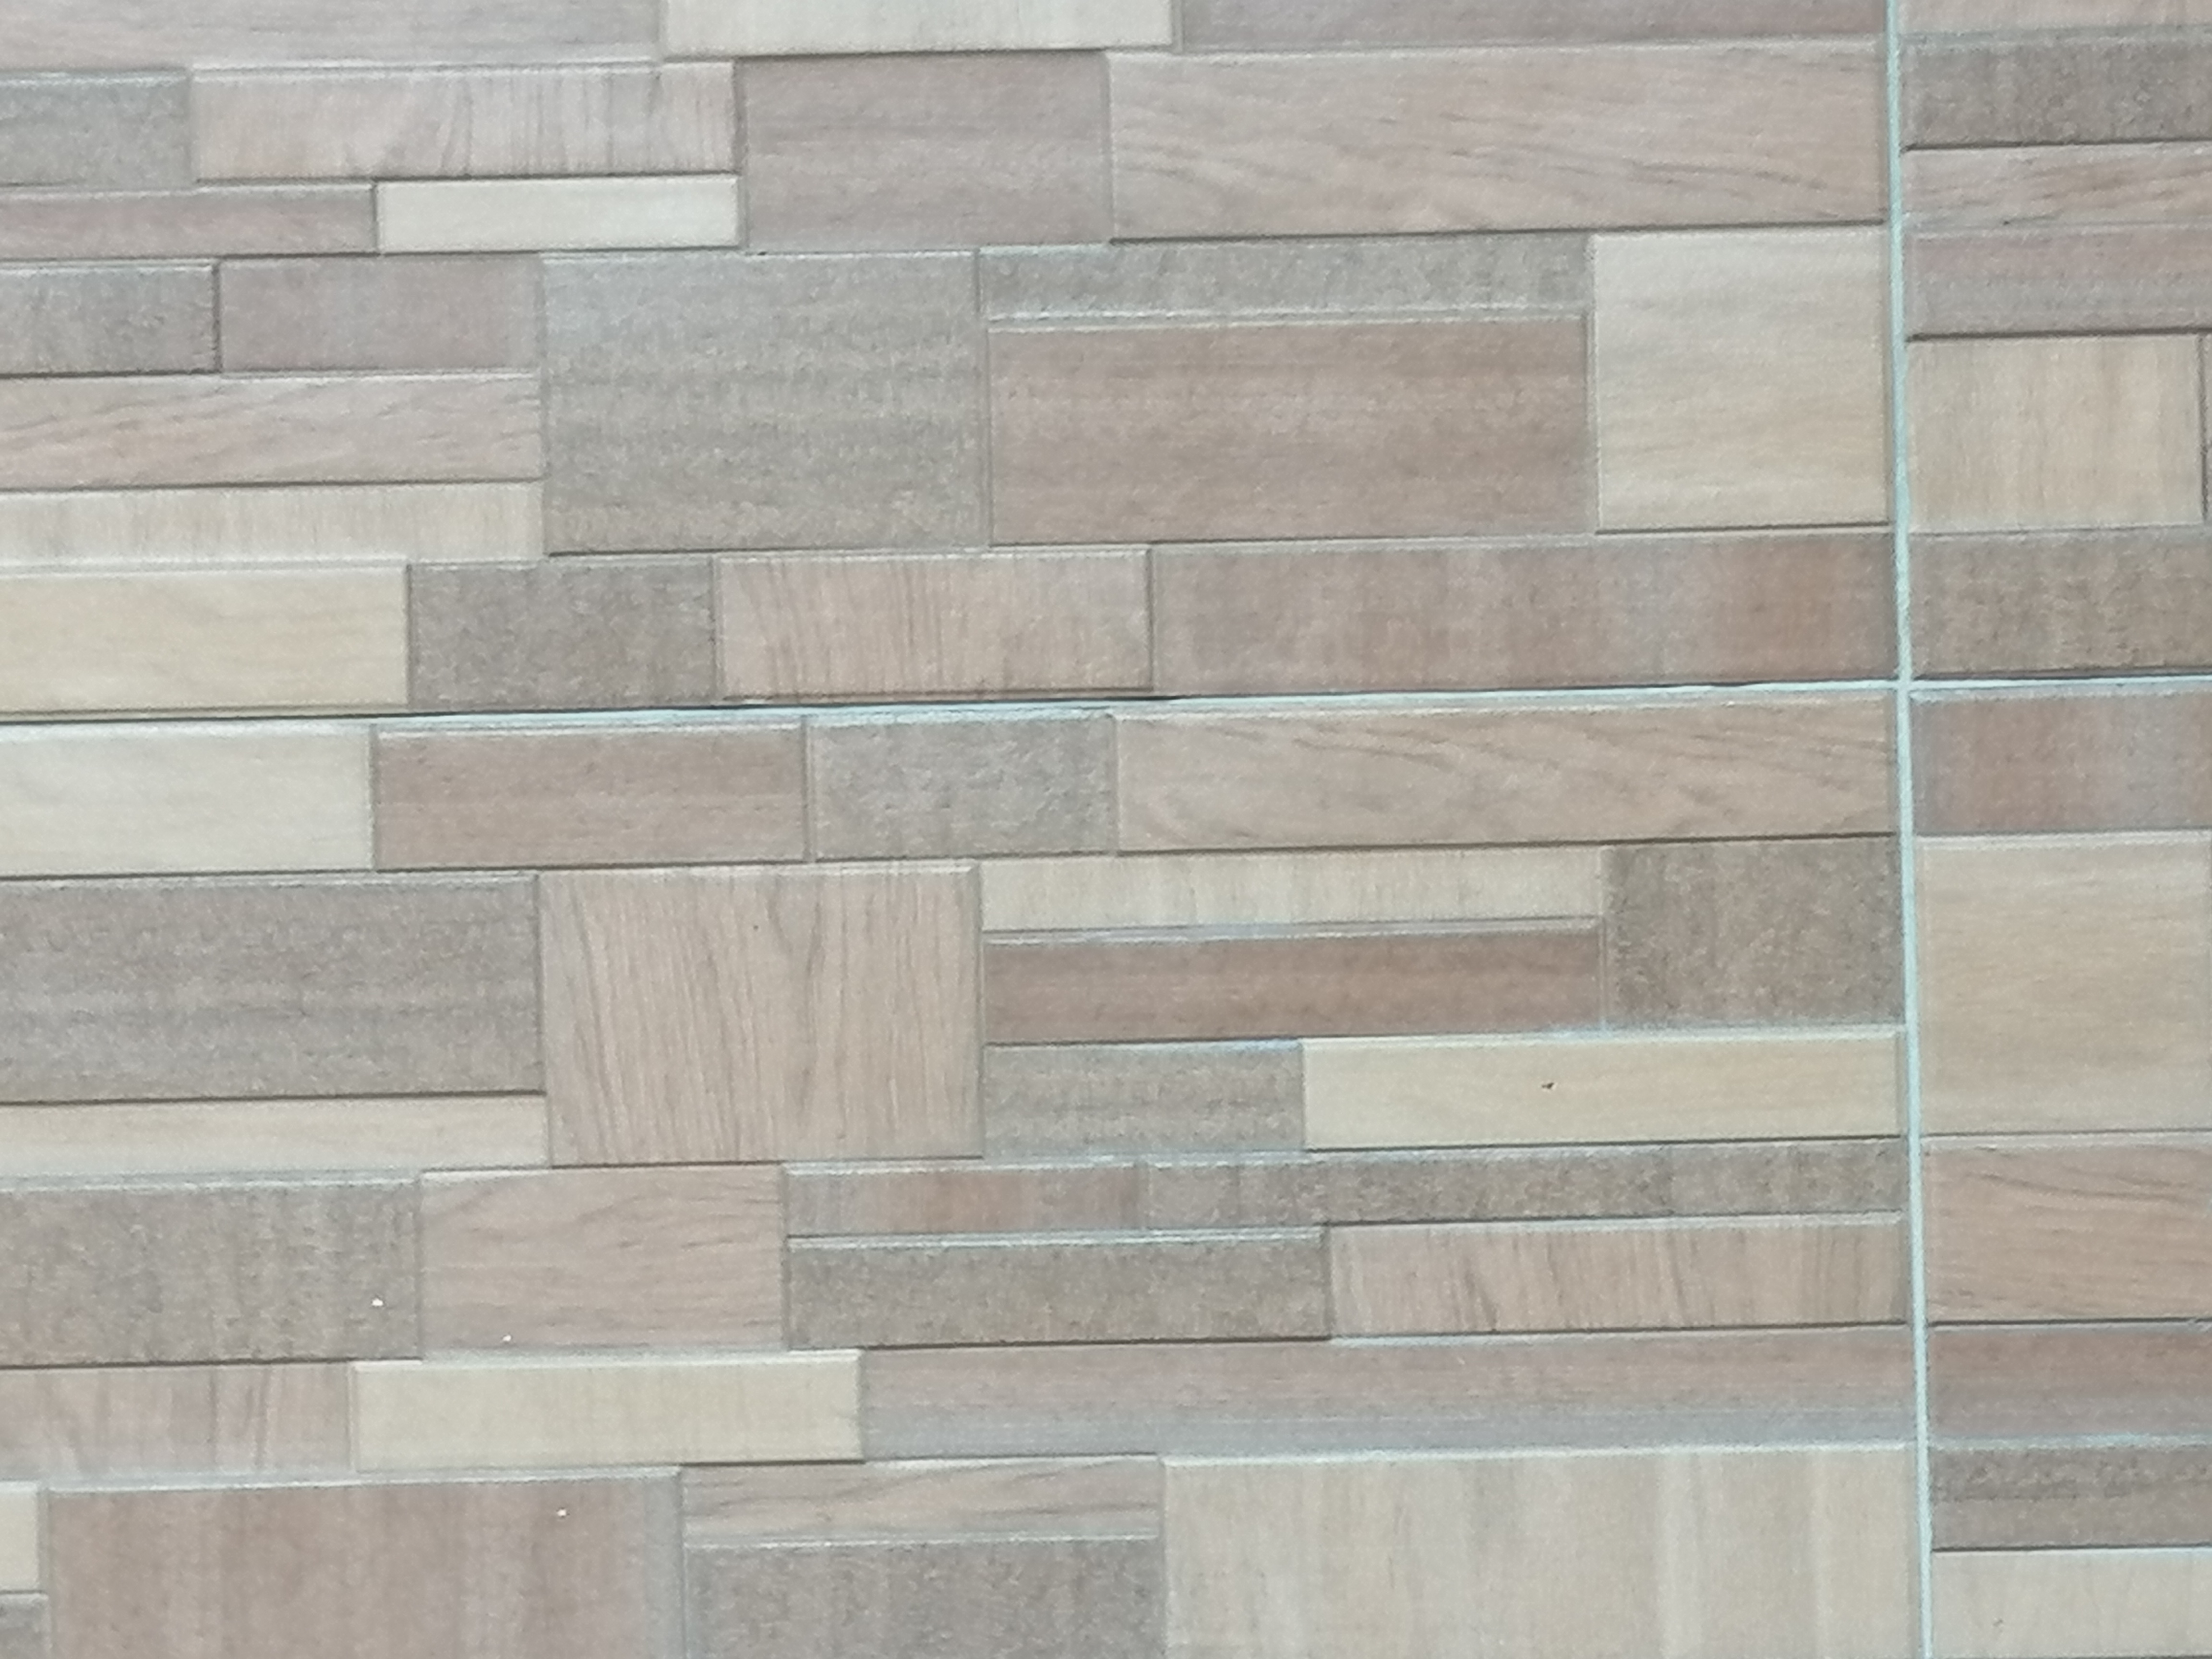wall: (10, 10, 2212, 1659)
